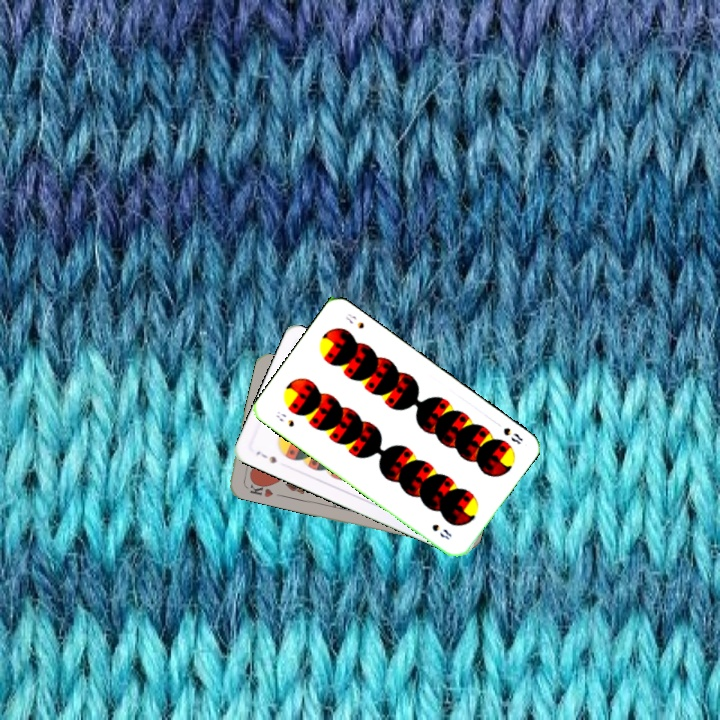HK: (241, 476, 275, 500)
S7: (252, 447, 279, 466)
S8: (499, 423, 525, 447), (272, 407, 297, 430)
